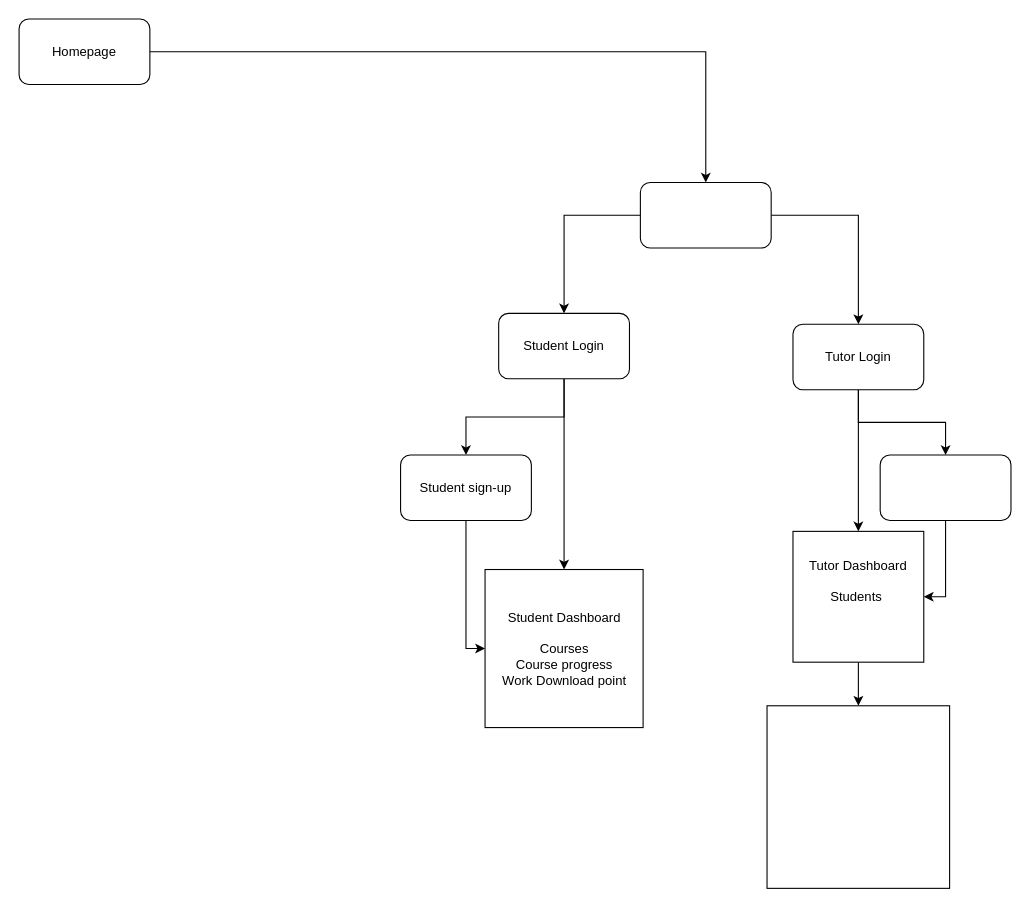
This 1030x908 diagram has some shape labels left out. Each missing label, with the centre of its shape:
"Login" belongs at pixel 705 214.
"Students Assign students to course Assign course progress" belongs at pixel 858 796.
"Tutor sign-up" belongs at pixel 945 487.
